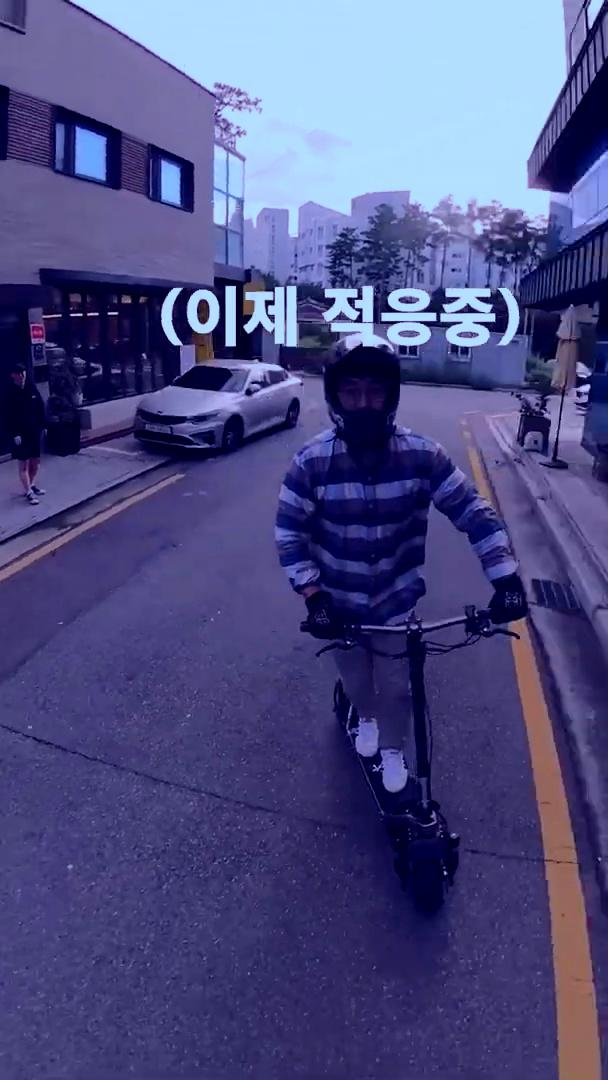helmet: (275, 330, 531, 916)
